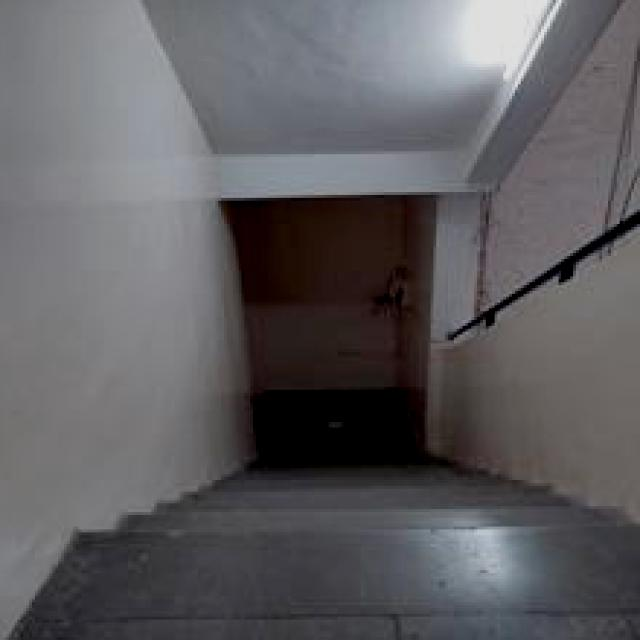downstair: (167, 434, 554, 586)
